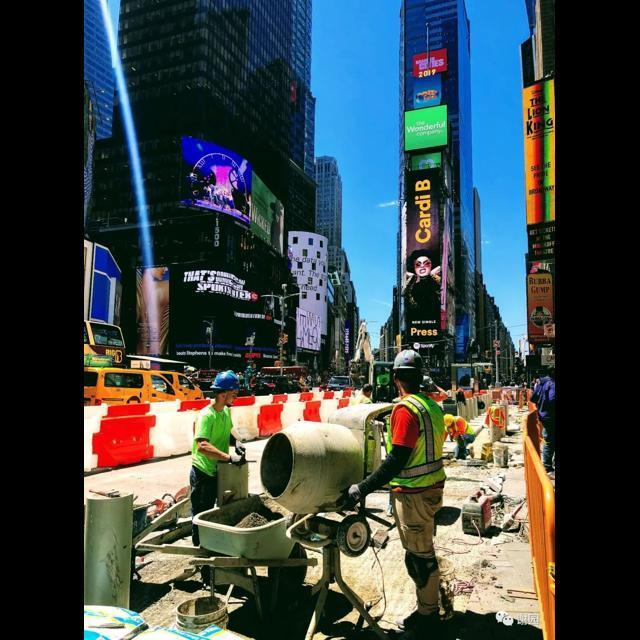helmet: (386, 350, 431, 376), (210, 362, 247, 392)
safety_vest: (382, 397, 450, 497), (188, 404, 232, 476)
